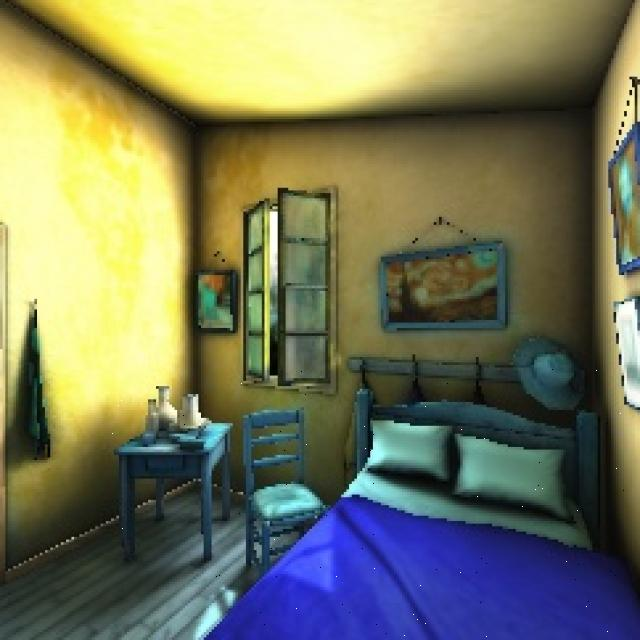bed: (214, 359, 640, 640)
chair: (235, 407, 340, 564)
table: (111, 396, 248, 560)
